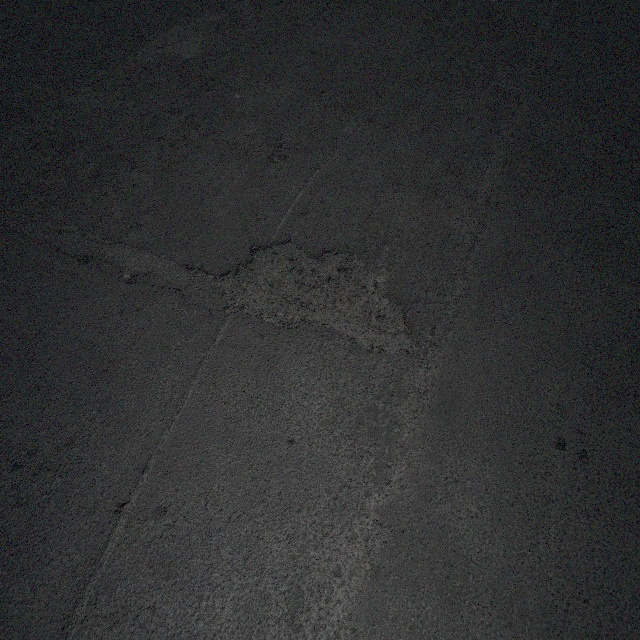pothole: (215, 234, 420, 360)
